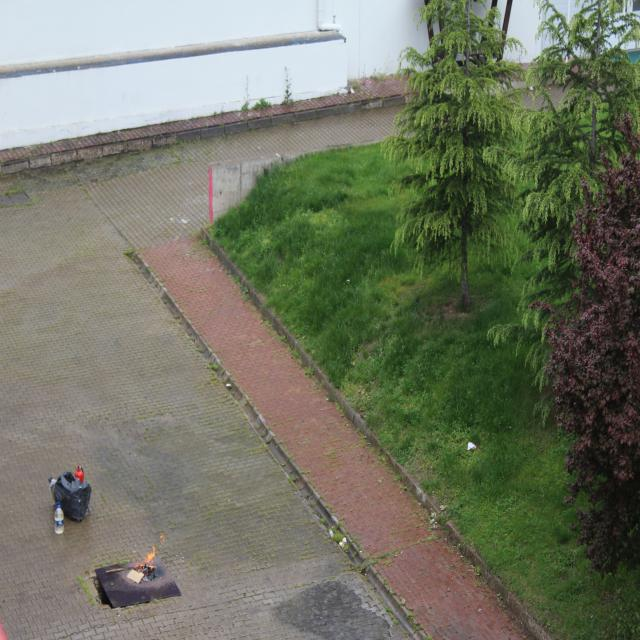fire: (136, 531, 174, 584)
